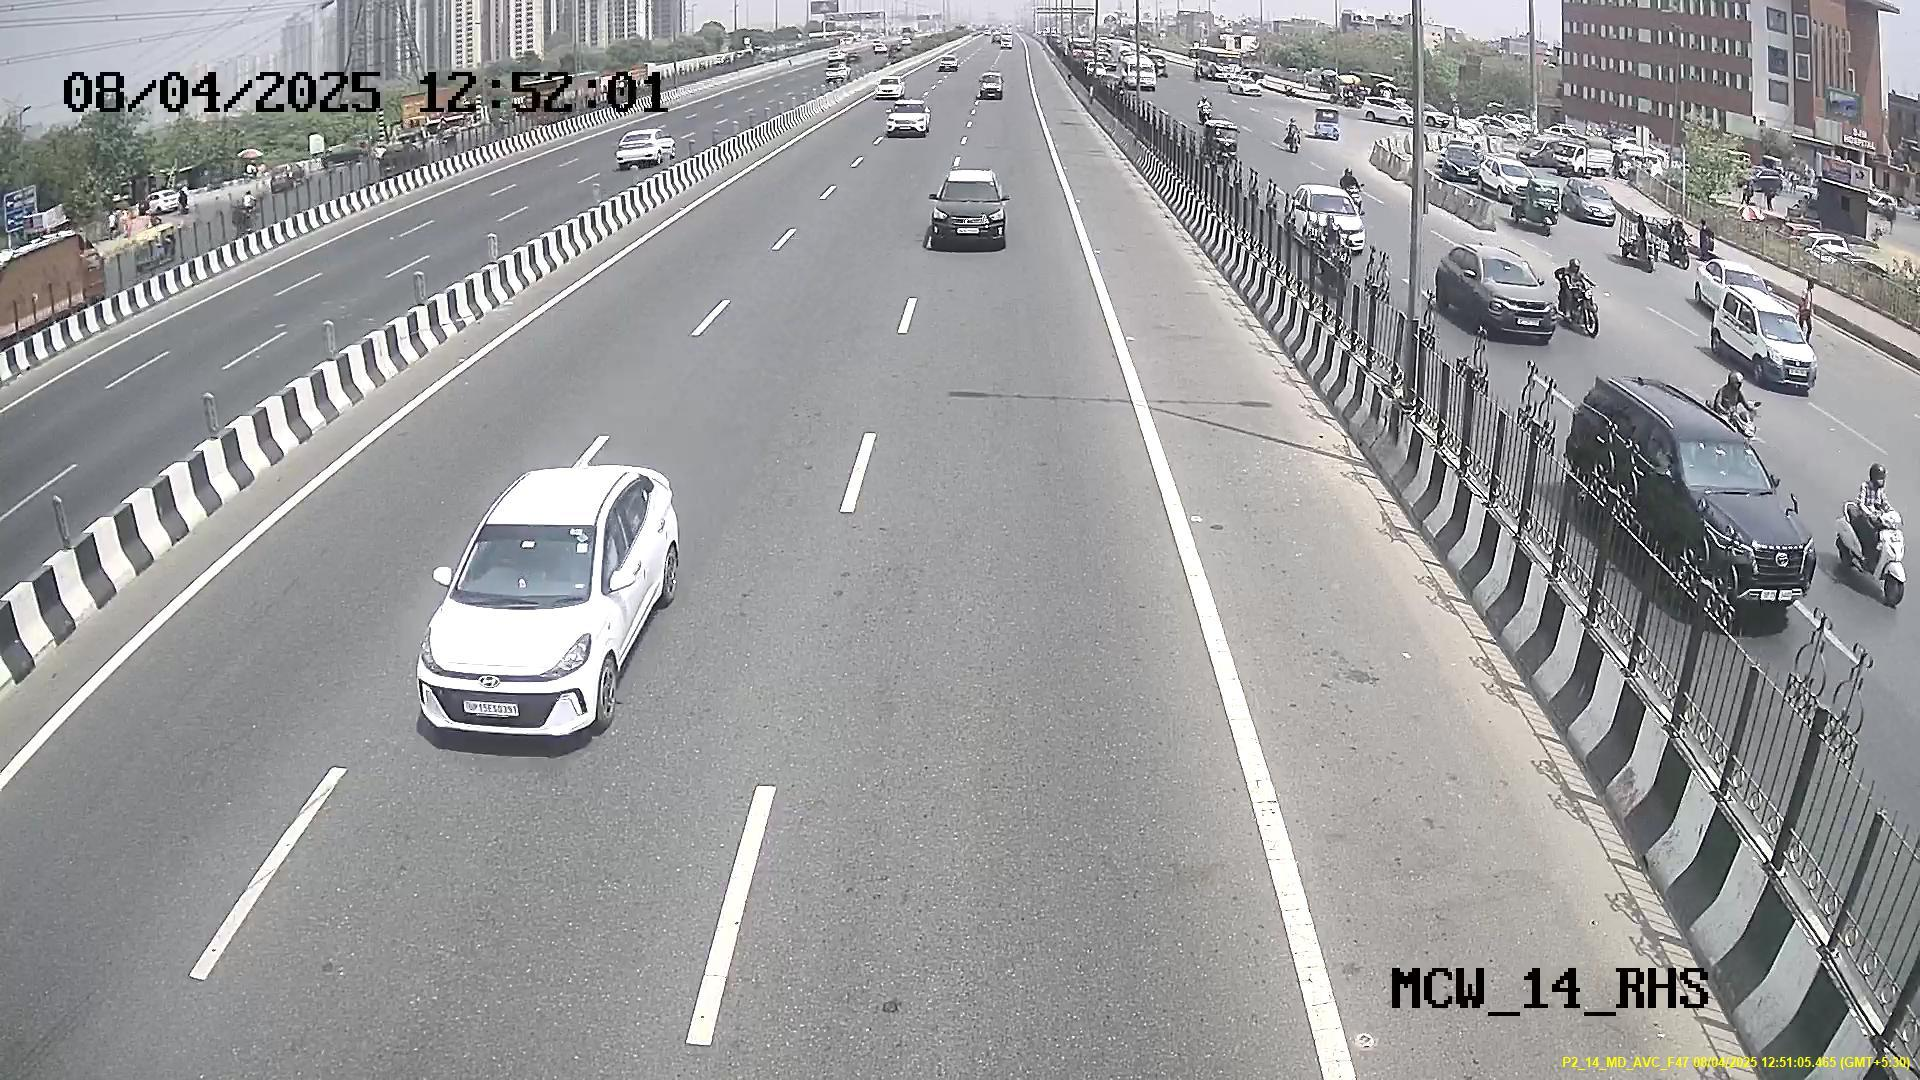car: (417, 504, 630, 742), (926, 161, 1007, 252)
